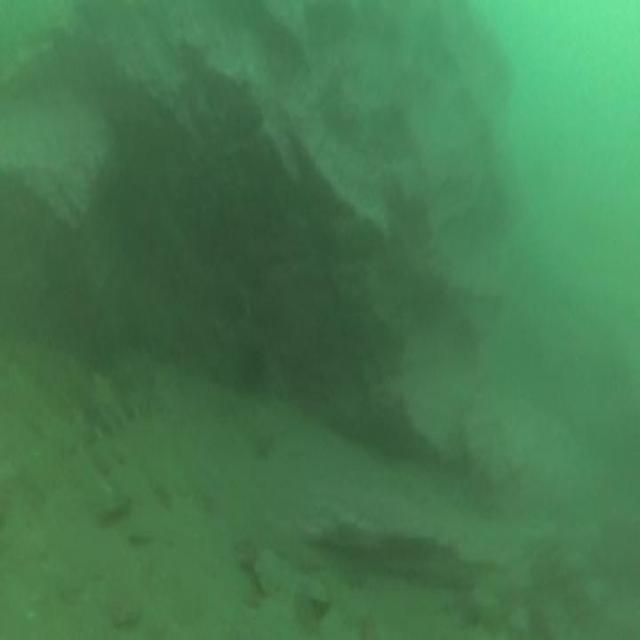holothurian: (45, 349, 160, 462)
